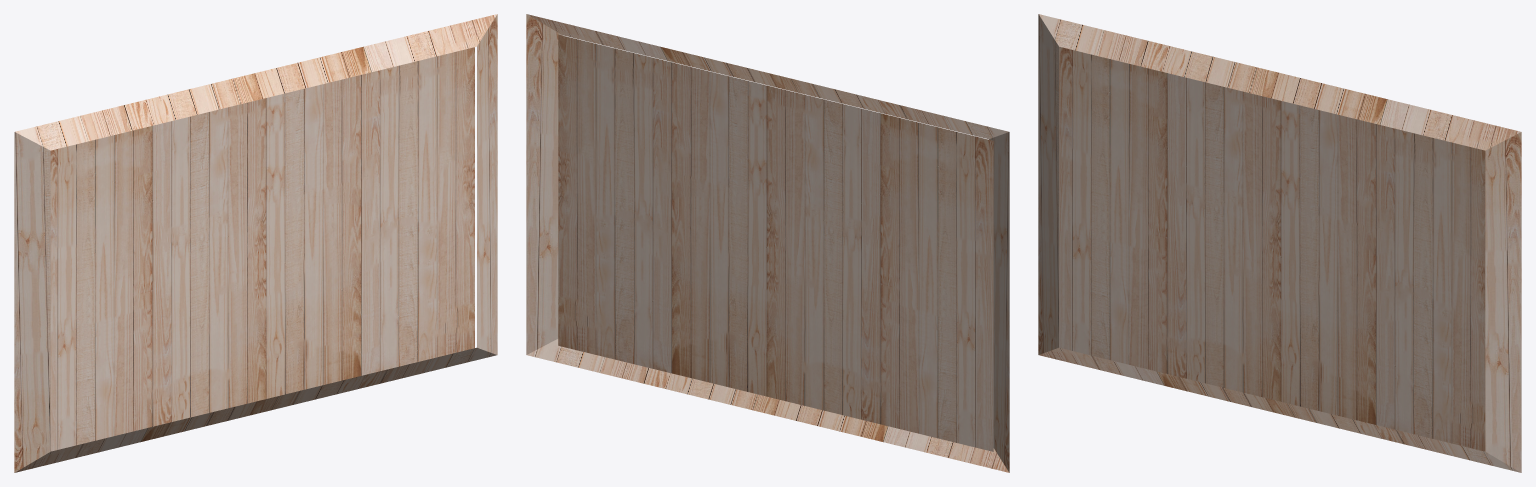
File: decoracao_moldura.gltf
3 renders of one model, left to right at view 1: azimuth 30°, elevation 25°; view 2: azimuth 150°, elevation 25°; view 3: azimuth 330°, elevation 25°, orthographic.
Parts seen in each view (by area): view 1: Plane, Cube, Cube.001; view 2: Plane, Cube.001, Cube; view 3: Plane, Cube, Cube.001.
Part boxes in pixels (x1,y1,x2,y2): Plane: [50, 47, 474, 451]; Cube: [14, 14, 497, 472]; Cube.001: [15, 14, 497, 472]; Plane: [558, 34, 993, 451]; Cube.001: [526, 14, 1009, 472]; Cube: [527, 14, 1009, 472]; Plane: [1059, 46, 1485, 451]; Cube: [1038, 14, 1520, 354]; Cube.001: [1039, 132, 1521, 472].
Bounding box in the file's own units: 3.42 × 2.31 × 0.0951.
3 materials, 3 textured.
